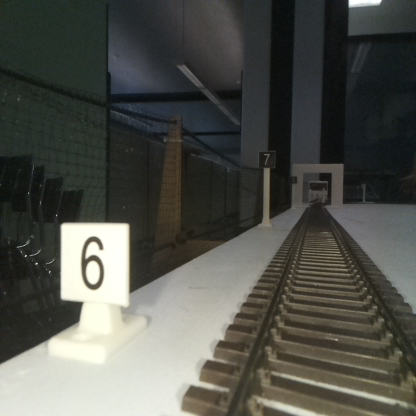black-info-7: (259, 150, 275, 225)
white-stop-6: (60, 223, 128, 352)
